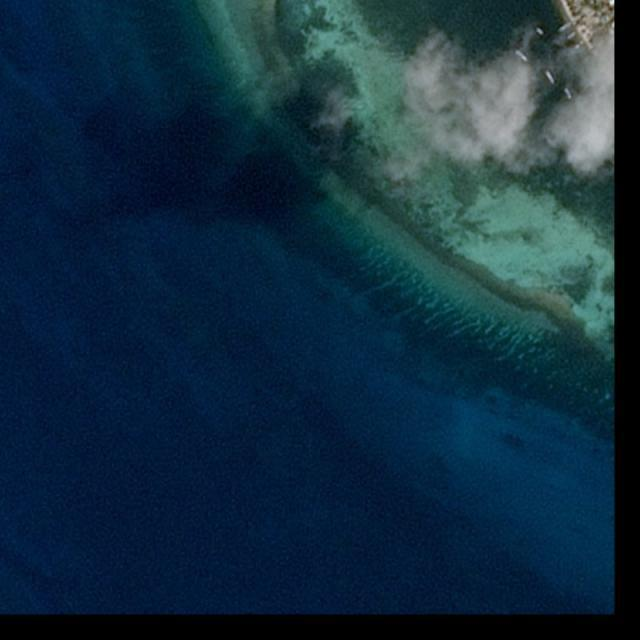ship: (512, 48, 530, 65), (544, 70, 558, 86), (534, 26, 545, 38), (564, 88, 574, 101)
